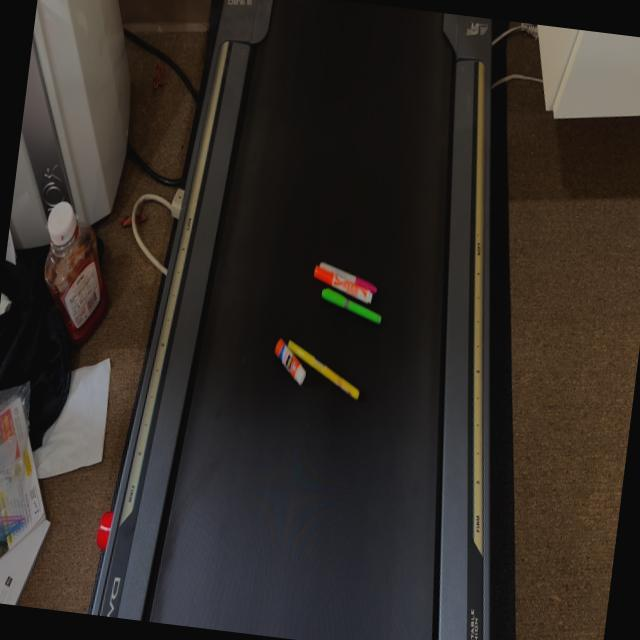Trash: (266, 332, 367, 408), (304, 256, 388, 328)
